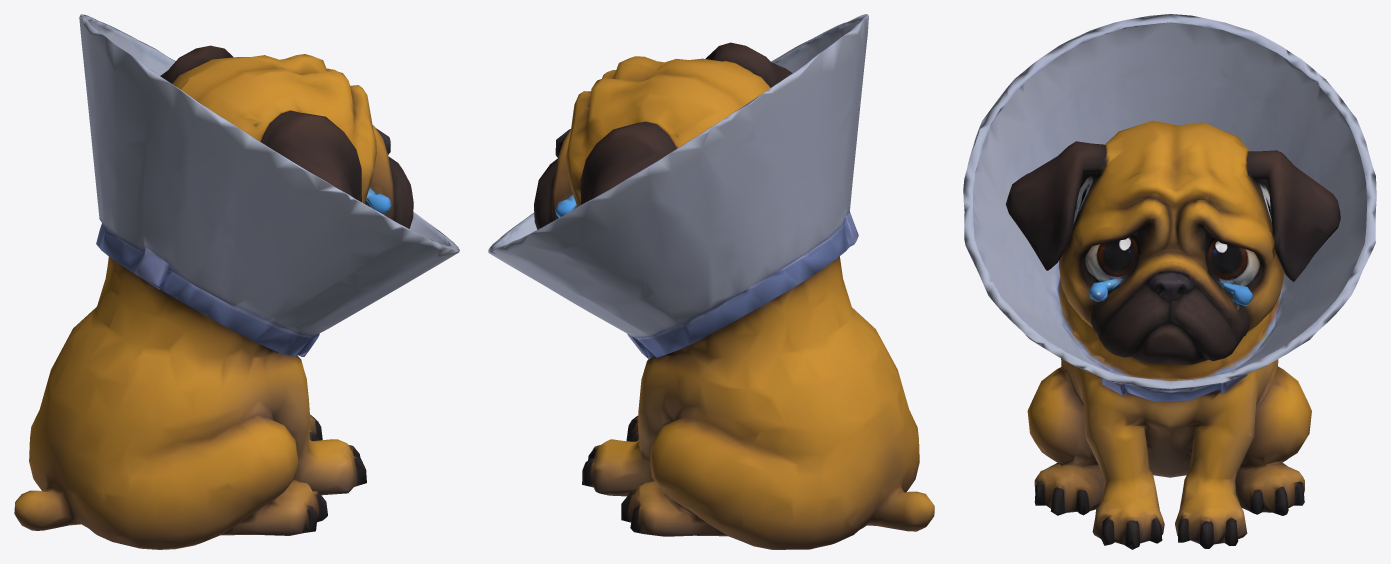
File: dog_pug_coned.glb
3 views of the same model, side by side, from view 1: azimuth 30°, elevation 25°; view 2: azimuth 150°, elevation 25°; view 3: azimuth 270°, elevation 25° (orthographic). The views are drawn at different scales.
Visible parts, largest first — view 1: tripo_node_14ad5801-7cd8-477a-9520-1dea2347e628; view 2: tripo_node_14ad5801-7cd8-477a-9520-1dea2347e628; view 3: tripo_node_14ad5801-7cd8-477a-9520-1dea2347e628.
Part boxes in pixels (x1,y1,x2,y2): tripo_node_14ad5801-7cd8-477a-9520-1dea2347e628: [14, 14, 459, 549]; tripo_node_14ad5801-7cd8-477a-9520-1dea2347e628: [488, 14, 934, 549]; tripo_node_14ad5801-7cd8-477a-9520-1dea2347e628: [963, 14, 1376, 549].
Size of the model in its own units: 0.9185 by 1 by 0.8636.
1 material, 1 textured.
